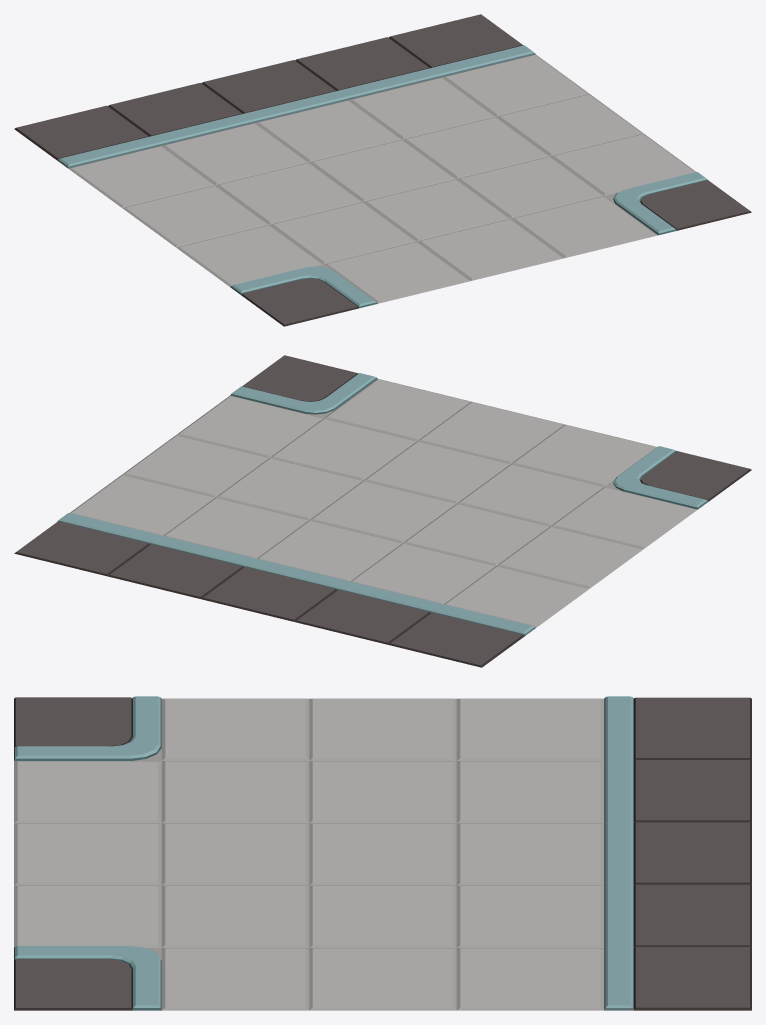
The model's file is Fork_0.glb.
The picture shows the model from 3 angles, top to bottom: view 1: azimuth 30°, elevation 25°; view 2: azimuth 150°, elevation 25°; view 3: azimuth 270°, elevation 25°; orthographic projection. The views are drawn at different scales.
Parts seen in each view (by area): view 1: Fork_0; view 2: Fork_0; view 3: Fork_0.
Boxes of the visible parts, left/top/right/bottom form: Fork_0: left=14, top=14, right=751, bottom=326; Fork_0: left=14, top=355, right=751, bottom=667; Fork_0: left=14, top=696, right=751, bottom=1010.
Bounding box in the file's own units: 16 × 0.0884 × 16.
Materials: 1 (1 with a texture image).
